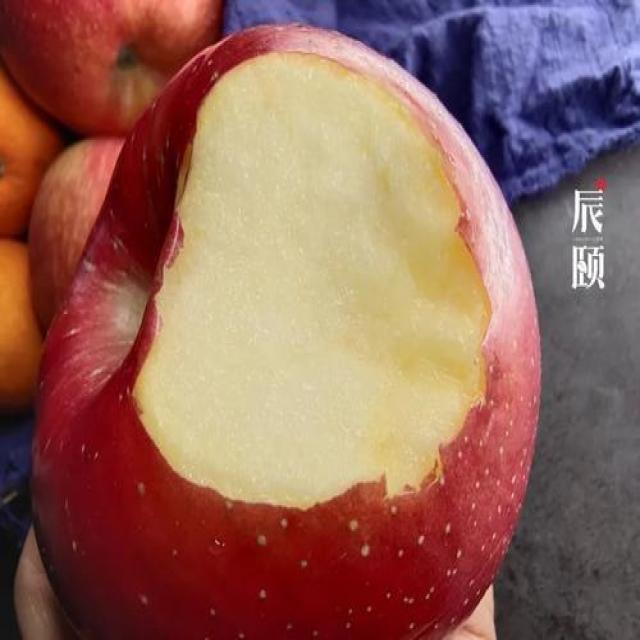Rotten: (51, 30, 535, 640)
